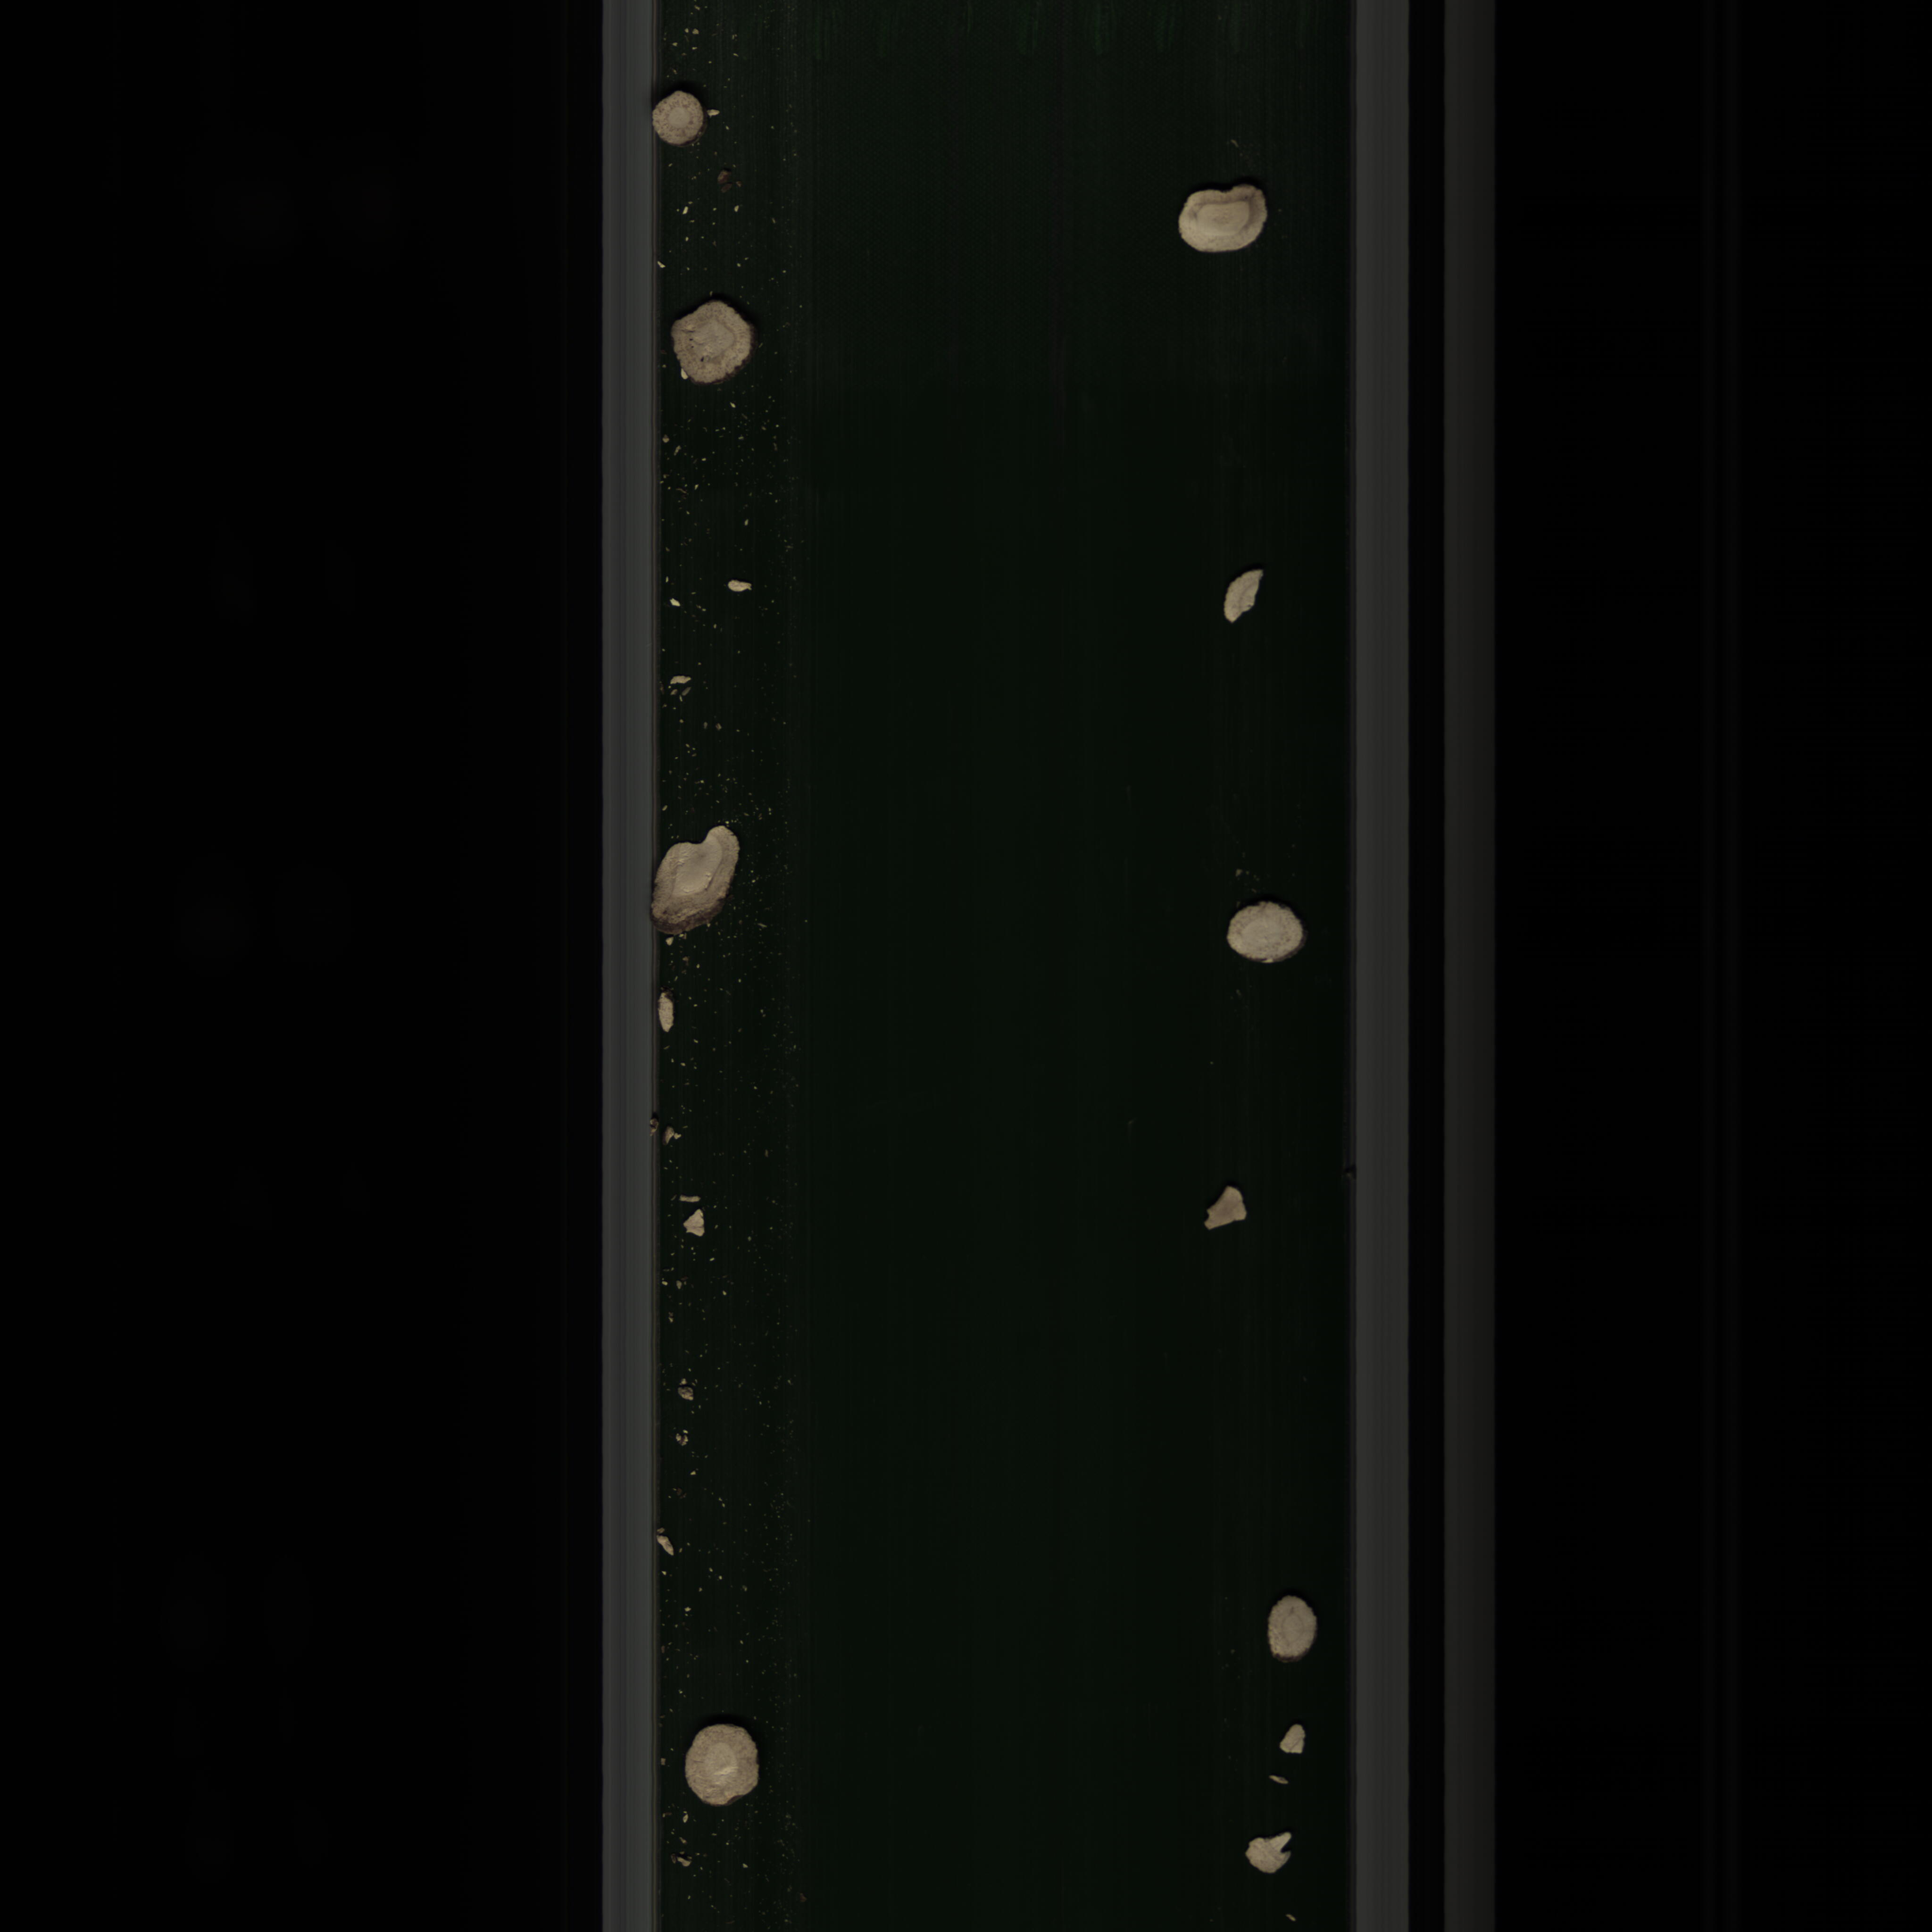debris: (1194, 1180, 1267, 1246), (1237, 1821, 1297, 1886), (1219, 559, 1269, 633), (1276, 1716, 1311, 1762)
distortion: (648, 819, 755, 961)
moldy: (671, 303, 763, 386)
